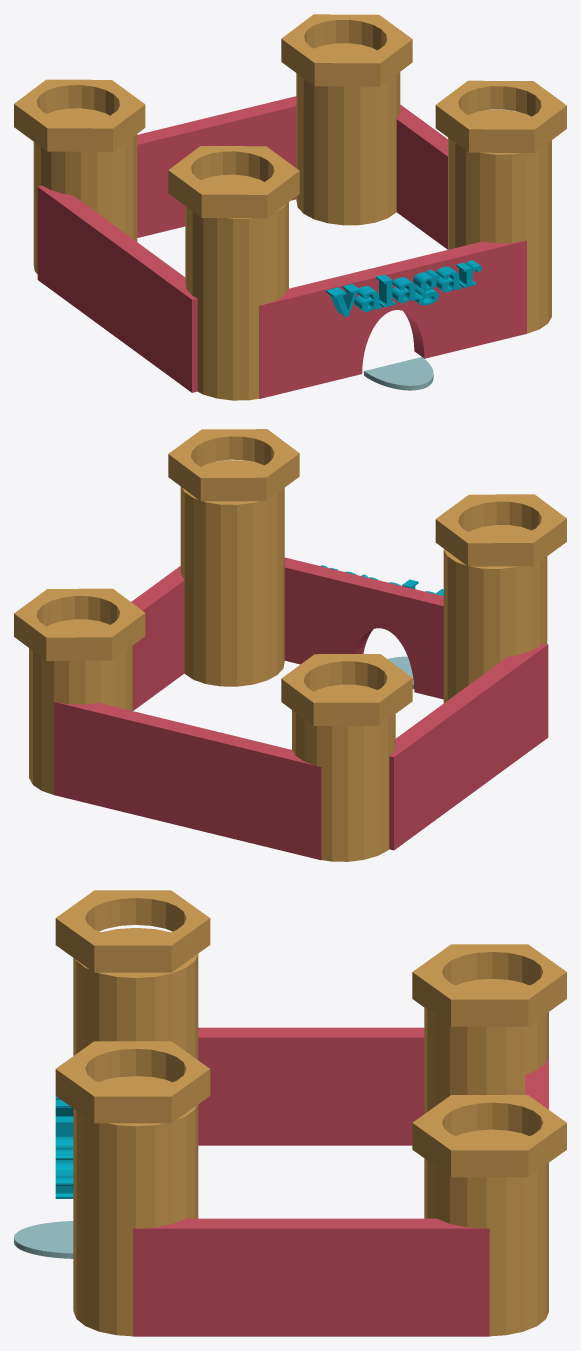
The model's file is Glenda_sCastle.glb.
3 renders of one model, top to bottom at view 1: azimuth 30°, elevation 25°; view 2: azimuth 150°, elevation 25°; view 3: azimuth 270°, elevation 25°, orthographic. The views are drawn at different scales.
Visible parts, largest first — view 1: Mesh_Mesh_head_geo.001_lambert2SG.001; view 2: Mesh_Mesh_head_geo.001_lambert2SG.001; view 3: Mesh_Mesh_head_geo.001_lambert2SG.001.
Boxes of the visible parts, x1,y1,x2,y2 form: Mesh_Mesh_head_geo.001_lambert2SG.001: [14, 14, 566, 400]; Mesh_Mesh_head_geo.001_lambert2SG.001: [14, 429, 566, 861]; Mesh_Mesh_head_geo.001_lambert2SG.001: [14, 890, 566, 1336].
Size of the model in its own units: 82 by 46 by 93.
